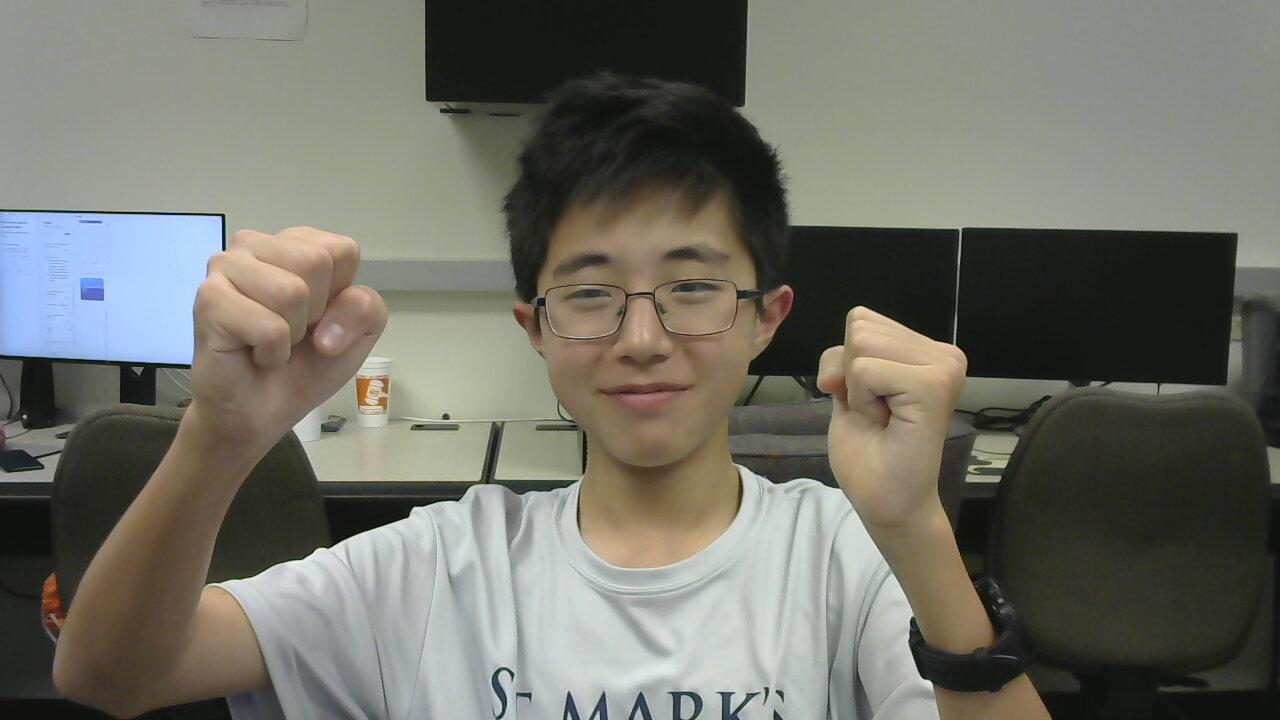fist: (168, 202, 407, 453), (811, 297, 944, 528)
